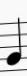note: (4, 15, 22, 71)
